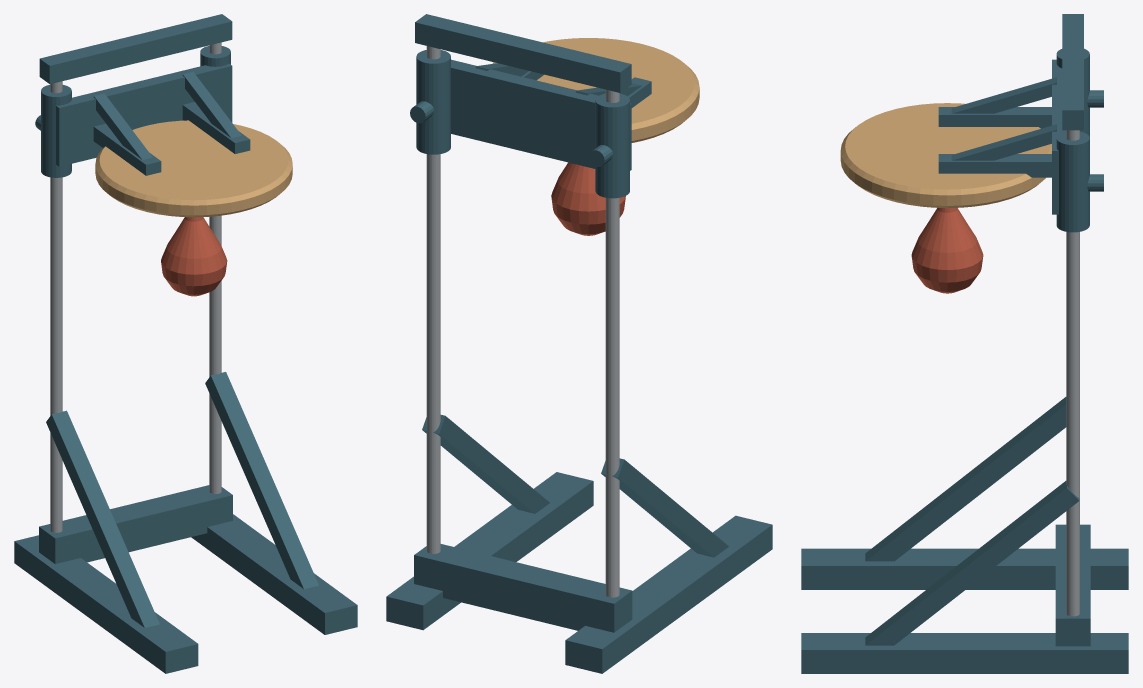
The picture shows the model from 3 angles, left to right: view 1: azimuth 30°, elevation 25°; view 2: azimuth 150°, elevation 25°; view 3: azimuth 270°, elevation 25°; orthographic projection. The views are drawn at different scales.
Parts seen in each view (by area): view 1: WholeRoundReboundPlatform, WholeGroundFootLongRunner_0, WholeLowerRearCrossTie, WholeCarriageRearBridge, WholeGroundFootLongRunner_1, WholeLowerGuideBrace_1, WholeLowerGuideBrace_0, WholeUpperGuideCrossTie, WholeUprightGuidePost_0, WholePearShapedSpeedBag, WholeUprightGuidePost_1, WholeBoredCarriageSleeve_0 (+5 smaller); view 2: WholeCarriageRearBridge, WholeLowerRearCrossTie, WholeGroundFootLongRunner_0, WholeGroundFootLongRunner_1, WholeUpperGuideCrossTie, WholeRoundReboundPlatform, WholeUprightGuidePost_1, WholeUprightGuidePost_0, WholeLowerGuideBrace_0, WholeLowerGuideBrace_1, WholeBoredCarriageSleeve_1, WholeBoredCarriageSleeve_0 (+1 smaller); view 3: WholeRoundReboundPlatform, WholeGroundFootLongRunner_1, WholeGroundFootLongRunner_0, WholeLowerGuideBrace_1, WholeLowerGuideBrace_0, WholeUprightGuidePost_1, WholePearShapedSpeedBag, WholeLowerRearCrossTie, WholeBoredCarriageSleeve_1, WholeUpperGuideCrossTie, WholeDeckCantileverRail_1, WholeDeckCantileverRail_0 (+4 smaller).
Part boxes in pixels (bbox=[...]): WholeRoundReboundPlatform: bbox=[95, 120, 292, 217]; WholeGroundFootLongRunner_0: bbox=[14, 535, 198, 673]; WholeLowerRearCrossTie: bbox=[39, 485, 232, 563]; WholeCarriageRearBridge: bbox=[56, 63, 232, 166]; WholeGroundFootLongRunner_1: bbox=[191, 514, 357, 634]; WholeLowerGuideBrace_1: bbox=[205, 372, 318, 589]; WholeLowerGuideBrace_0: bbox=[46, 410, 159, 627]; WholeUpperGuideCrossTie: bbox=[39, 14, 232, 83]; WholeUprightGuidePost_0: bbox=[50, 81, 62, 532]; WholePearShapedSpeedBag: bbox=[161, 217, 227, 296]; WholeUprightGuidePost_1: bbox=[209, 42, 221, 493]; WholeBoredCarriageSleeve_0: bbox=[41, 85, 71, 177]; WholeCarriageRearBridge: bbox=[450, 59, 631, 170]; WholeLowerRearCrossTie: bbox=[414, 544, 632, 632]; WholeGroundFootLongRunner_0: bbox=[565, 515, 772, 673]; WholeGroundFootLongRunner_1: bbox=[386, 472, 593, 630]; WholeUpperGuideCrossTie: bbox=[415, 14, 631, 92]; WholeRoundReboundPlatform: bbox=[492, 38, 699, 142]; WholeUprightGuidePost_1: bbox=[426, 46, 440, 553]; WholeUprightGuidePost_0: bbox=[605, 89, 619, 597]; WholeLowerGuideBrace_0: bbox=[601, 458, 728, 557]; WholeLowerGuideBrace_1: bbox=[422, 415, 549, 513]; WholeBoredCarriageSleeve_1: bbox=[416, 50, 450, 154]; WholeBoredCarriageSleeve_0: bbox=[595, 93, 629, 198]; WholeRoundReboundPlatform: bbox=[840, 103, 1051, 207]; WholeGroundFootLongRunner_1: bbox=[801, 633, 1128, 673]; WholeGroundFootLongRunner_0: bbox=[801, 548, 1128, 589]; WholeLowerGuideBrace_1: bbox=[865, 481, 1079, 645]; WholeLowerGuideBrace_0: bbox=[865, 397, 1066, 561]; WholeUprightGuidePost_1: bbox=[1066, 130, 1079, 616]; WholePearShapedSpeedBag: bbox=[911, 208, 983, 293]; WholeLowerRearCrossTie: bbox=[1055, 524, 1090, 646]; WholeBoredCarriageSleeve_1: bbox=[1056, 131, 1089, 232]; WholeUpperGuideCrossTie: bbox=[1062, 14, 1083, 130]; WholeDeckCantileverRail_1: bbox=[938, 154, 1051, 177]; WholeDeckCantileverRail_0: bbox=[938, 107, 1051, 128].
Size of the model in its own units: 0.82 by 2.12 by 1.12.
